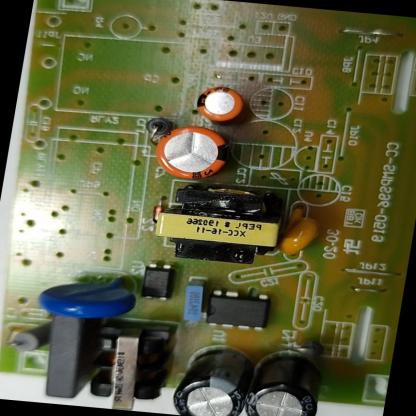Cap1: (147, 119, 236, 185)
Cap2: (189, 80, 253, 128)
Cap3: (166, 340, 263, 416)
Cap4: (238, 346, 333, 416)
MOSFET: (197, 284, 279, 335)
Mov: (30, 267, 146, 326)
Resistor: (4, 319, 57, 357)
Transformer: (145, 173, 297, 273), (80, 312, 182, 414)
